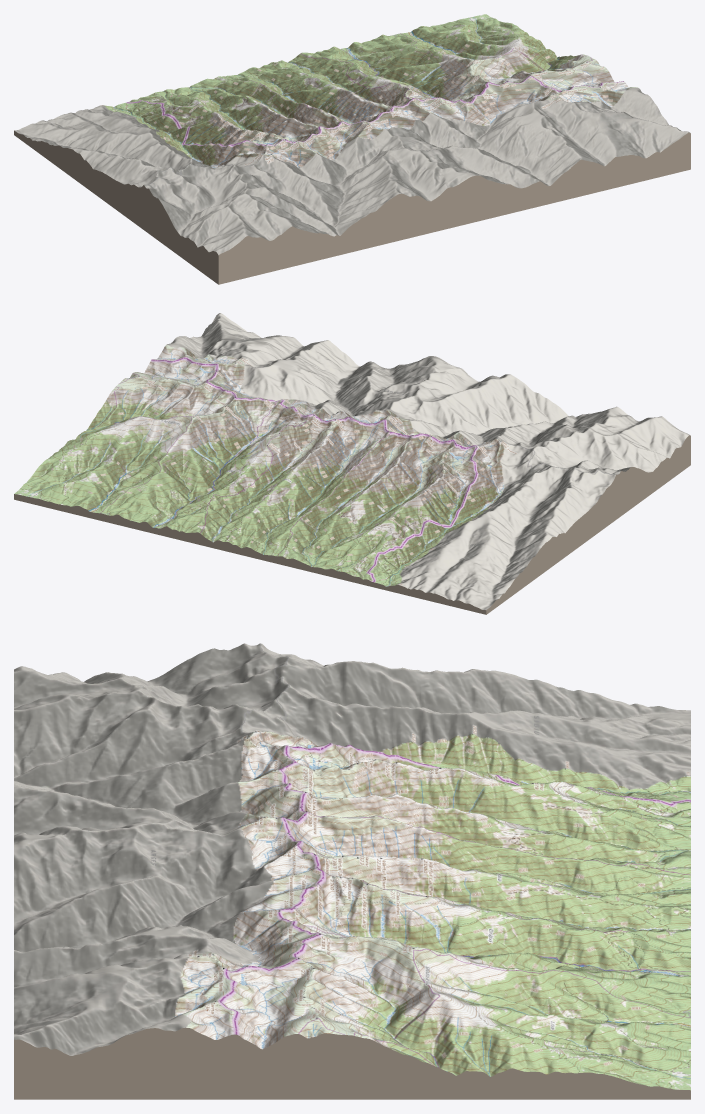
The picture shows the model from 3 angles, top to bottom: view 1: azimuth 30°, elevation 25°; view 2: azimuth 150°, elevation 25°; view 3: azimuth 270°, elevation 25°; orthographic projection. The views are drawn at different scales.
Parts seen in each view (by area): view 1: BV50-E1 Urlea; view 2: BV50-E1 Urlea; view 3: BV50-E1 Urlea.
Boxes of the visible parts, x1,y1,x2,y2 form: BV50-E1 Urlea: (14, 14, 690, 284); BV50-E1 Urlea: (14, 313, 690, 614); BV50-E1 Urlea: (14, 643, 690, 1099).
Bounding box in the file's own units: 20000 × 2035 × 15000.
3 materials, 1 textured.
